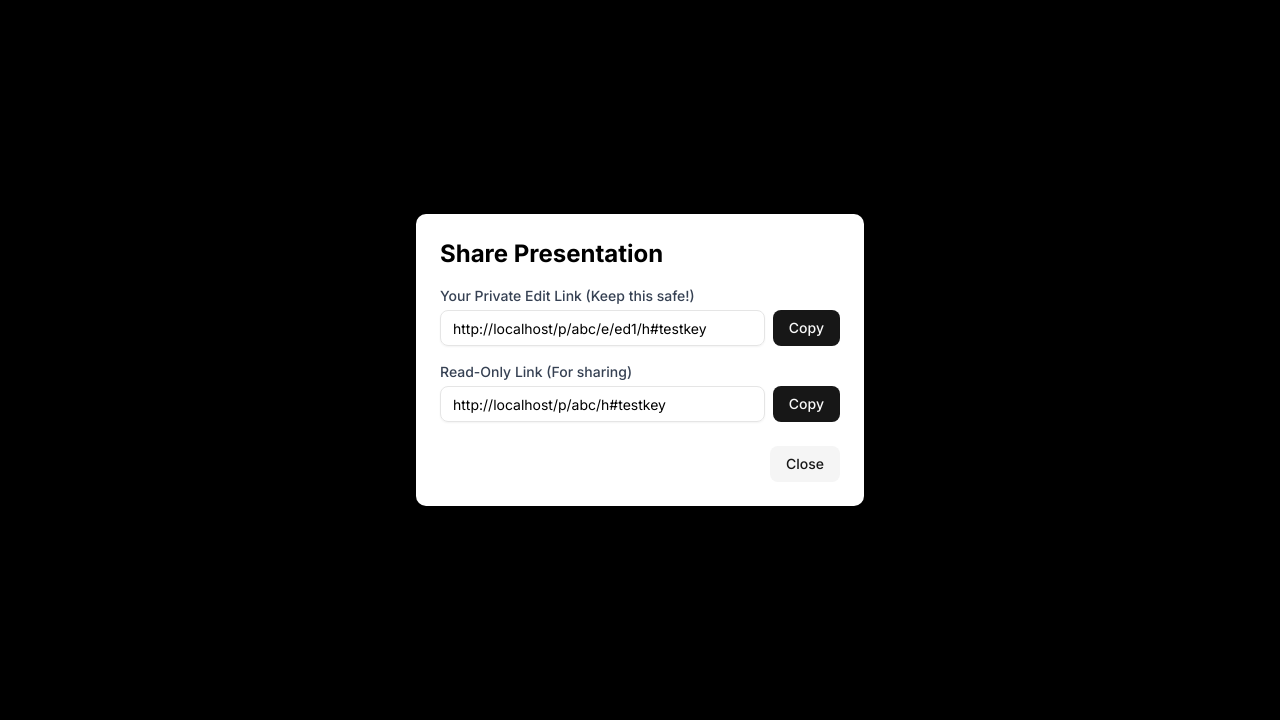
Test: ShareDialog › should copy edit link to clipboard
The image size is (1280, 720).
Click the button "Copy" below "Your Private Edit Link (Keep this safe!)" at point(806, 328), box [773, 310, 840, 346]
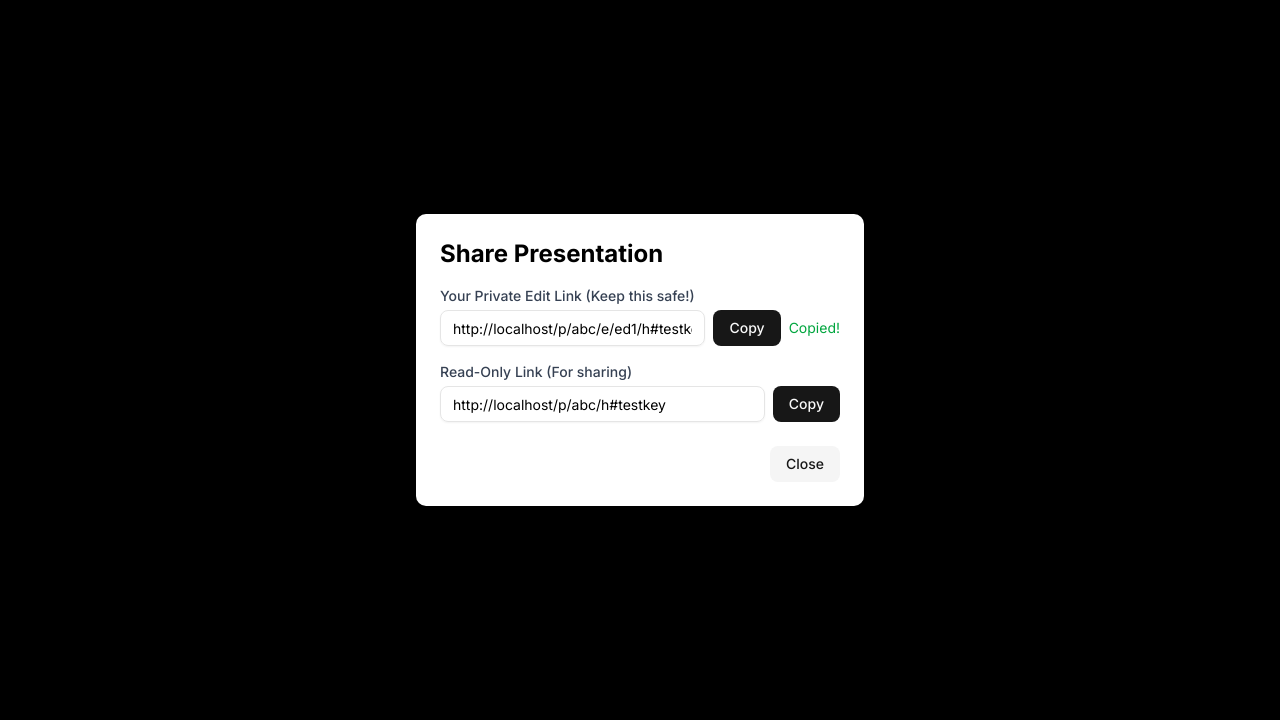
Check: the text "Copied!" is shown, box [789, 318, 840, 338]
